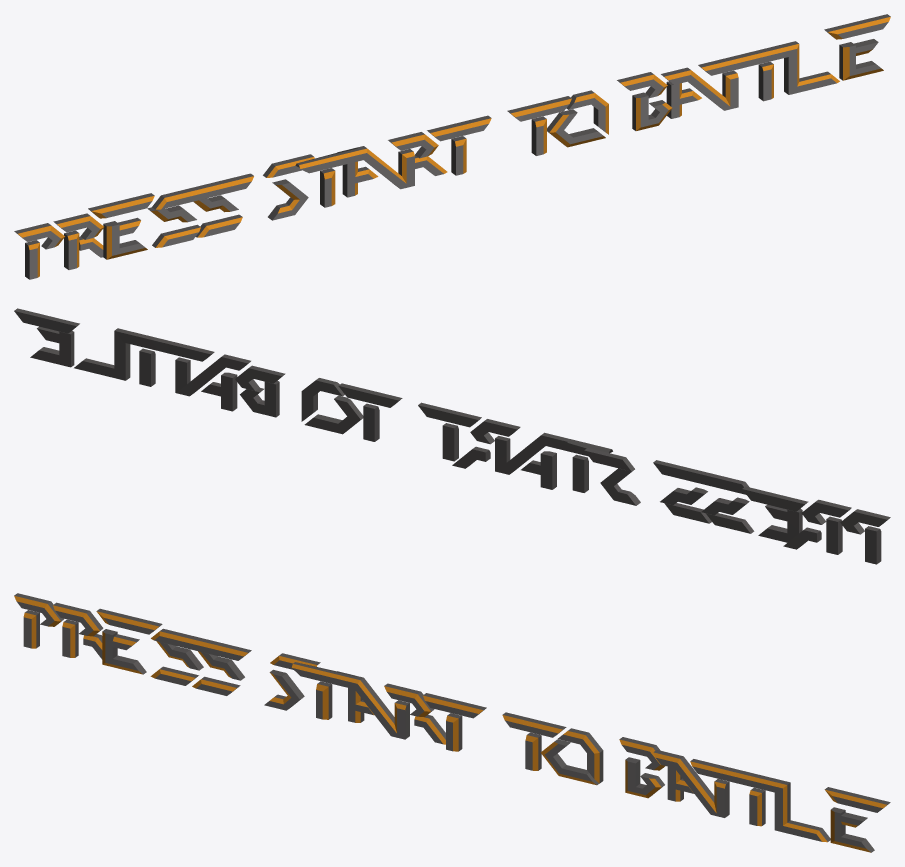
The model's file is Press_Start_to_battle.fbx.
3 renders of one model, top to bottom at view 1: azimuth 30°, elevation 25°; view 2: azimuth 150°, elevation 25°; view 3: azimuth 330°, elevation 25°, orthographic.
Visible parts, largest first — view 1: Press_Start_to_battle; view 2: Press_Start_to_battle; view 3: Press_Start_to_battle.
Boxes of the visible parts, x1,y1,x2,y2 form: Press_Start_to_battle: [14, 14, 890, 279]; Press_Start_to_battle: [14, 308, 890, 564]; Press_Start_to_battle: [14, 593, 890, 852].
Size of the model in its own units: 4349 by 227 by 86.16.
